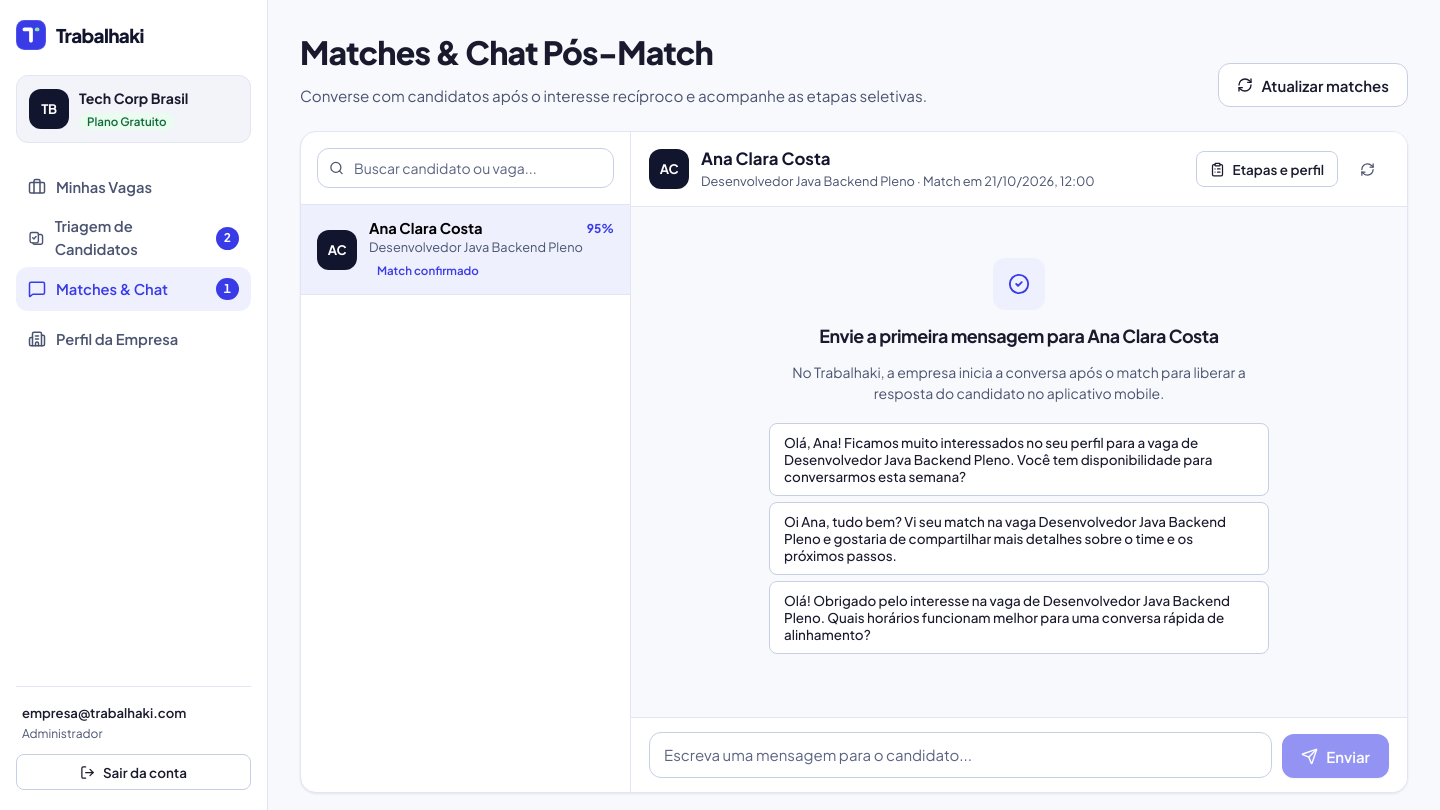
Trabalhaki Empresas Web Portal › loads post-match chat and sends first company message
Expected: the heading "Envie a primeira mensagem para Ana Clara Costa" is shown, left=819, top=322, right=1219, bottom=350
Type "Olá Ana, vamos conversar?" into the text box named "Mensagem do chat". click: (961, 755)
box: left=649, top=732, right=1272, bottom=778
(page scrolled)
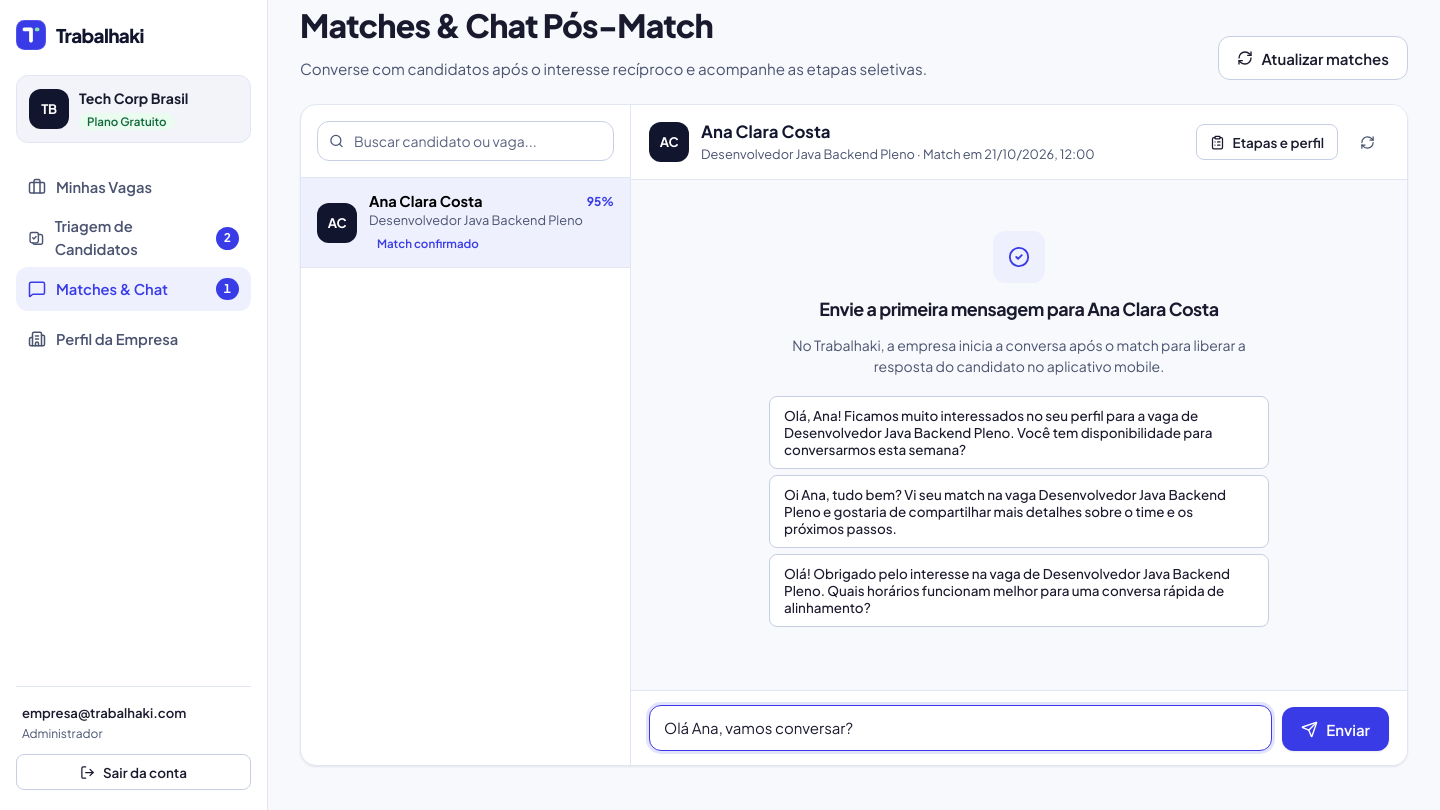
Click the button "Enviar". click: (1336, 729)
box: left=1282, top=707, right=1389, bottom=751
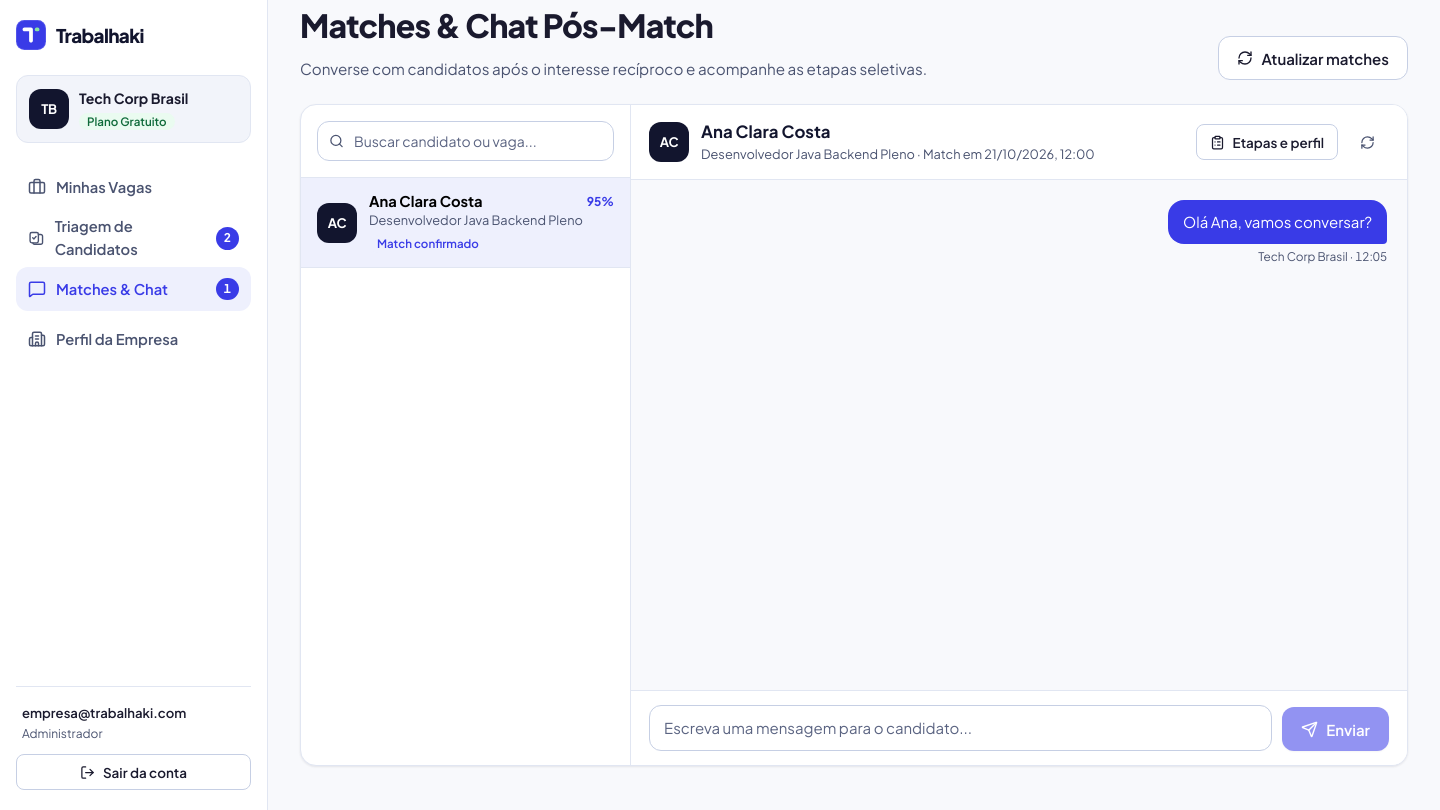
Expected: the text "Olá Ana, vamos conversar?" is shown, left=1168, top=200, right=1387, bottom=244
